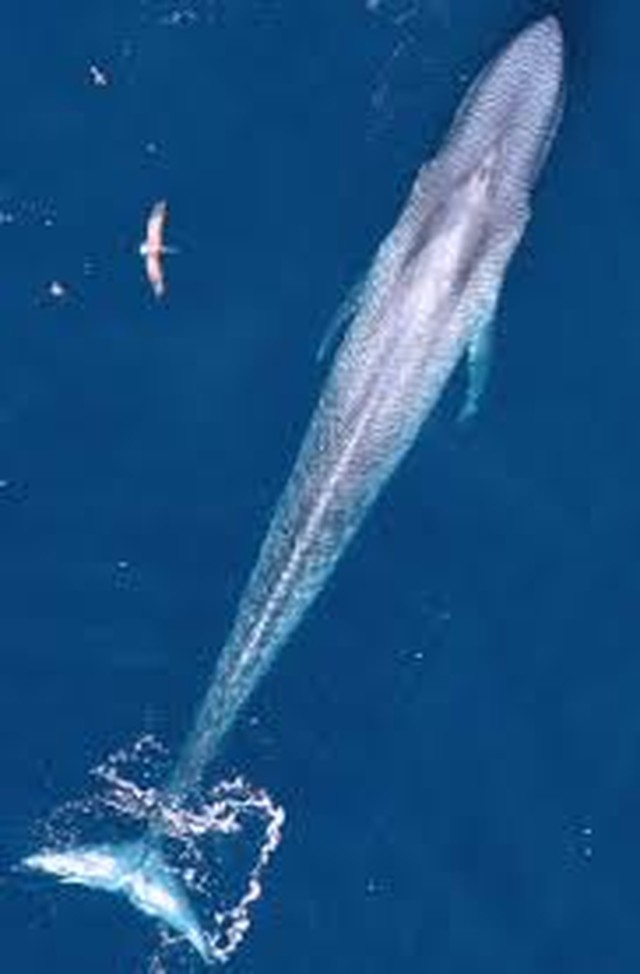whale: (19, 12, 569, 961)
